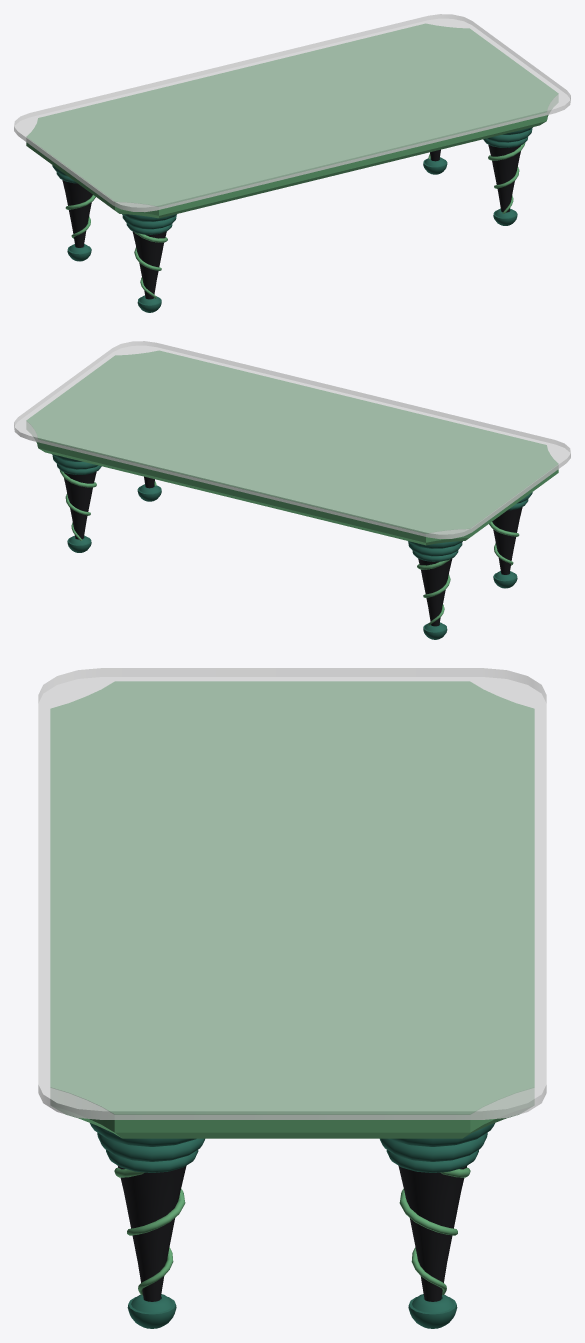
File: Furn_TableFloatingBig_Green_A.fbx
3 views of the same model, one above another, from view 1: azimuth 30°, elevation 25°; view 2: azimuth 150°, elevation 25°; view 3: azimuth 270°, elevation 25° (orthographic). The views are drawn at different scales.
Visible parts, largest first — view 1: Furn_TableFloatingBig_Green_A.001; view 2: Furn_TableFloatingBig_Green_A.001; view 3: Furn_TableFloatingBig_Green_A.001.
Boxes of the visible parts, box(x1,y1,x2,y2) form: Furn_TableFloatingBig_Green_A.001: box(14, 14, 570, 312); Furn_TableFloatingBig_Green_A.001: box(14, 341, 570, 639); Furn_TableFloatingBig_Green_A.001: box(38, 668, 546, 1328).
Bounding box in the file's own units: 1.9 × 0.5207 × 0.9209.
